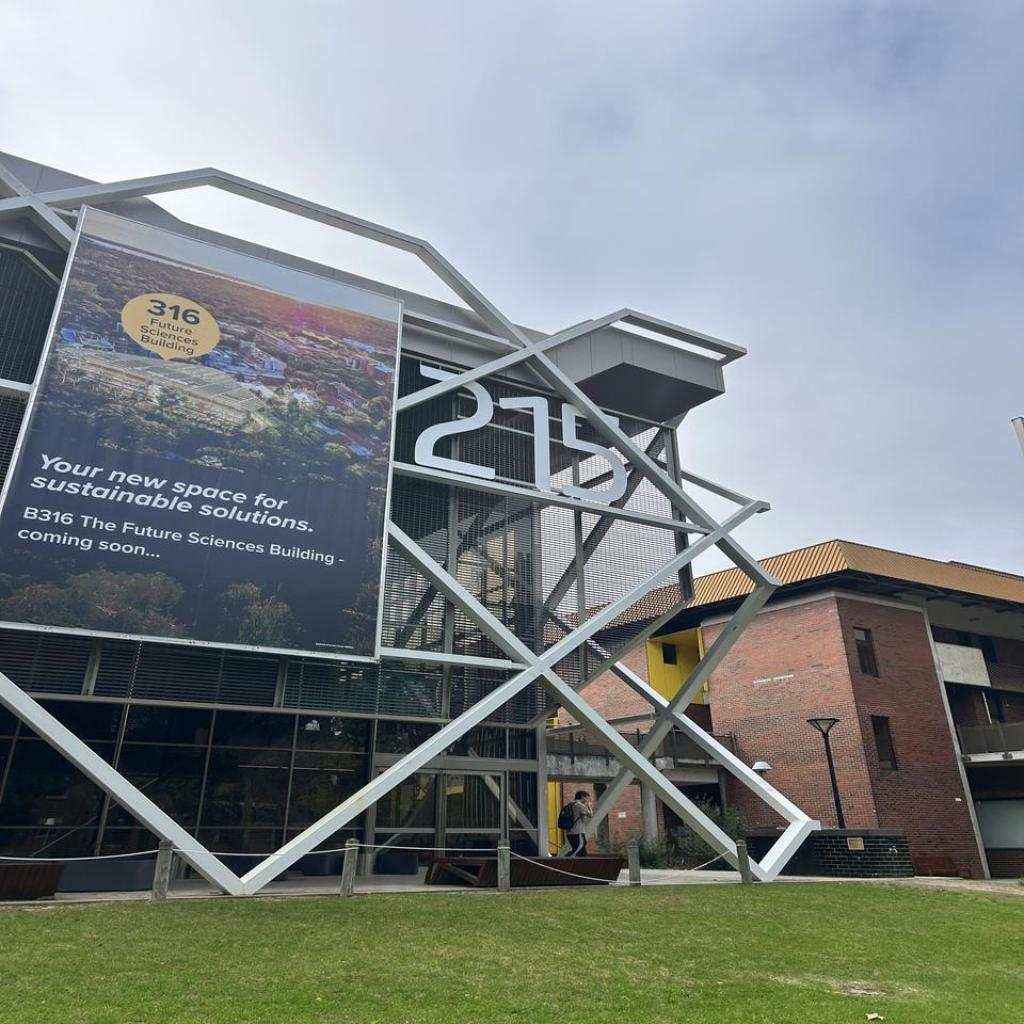BuildingCodes: (412, 360, 630, 504)
